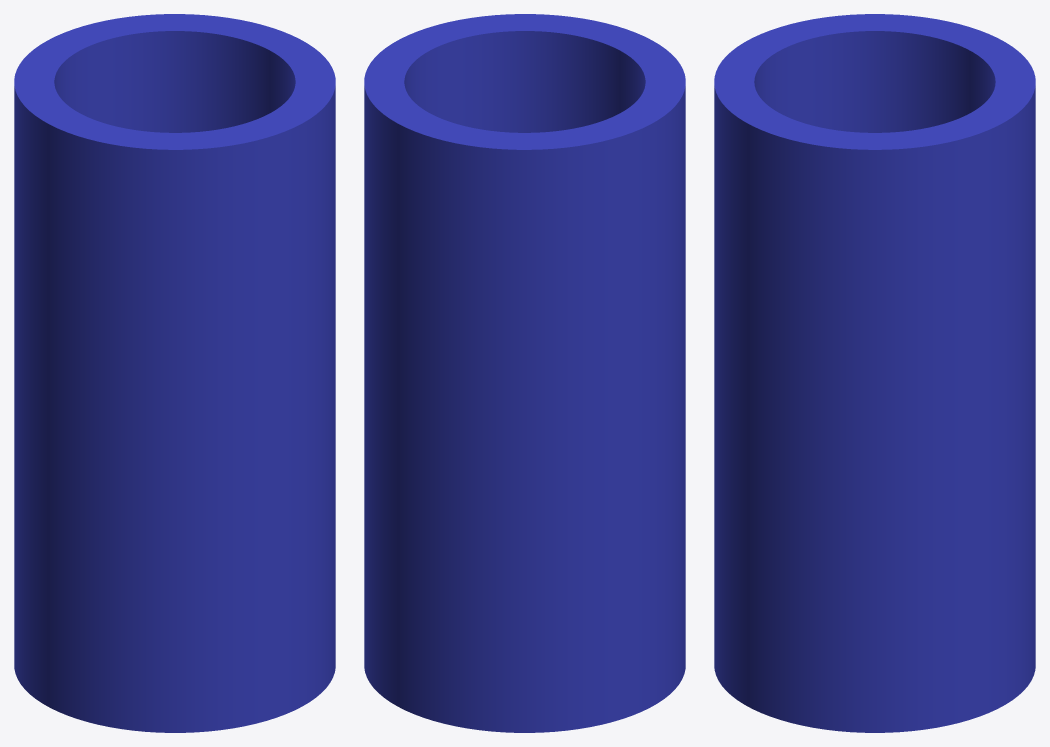
The picture shows the model from 3 angles, left to right: view 1: azimuth 30°, elevation 25°; view 2: azimuth 150°, elevation 25°; view 3: azimuth 270°, elevation 25°; orthographic projection.
Visible parts, largest first — view 1: root; view 2: root; view 3: root.
Part boxes in pixels (x1=…): root: x1=14, y1=14, x2=335, y2=732; root: x1=364, y1=14, x2=685, y2=732; root: x1=714, y1=14, x2=1035, y2=732.
Size of the model in its own units: 17.47 by 34.95 by 17.47.
